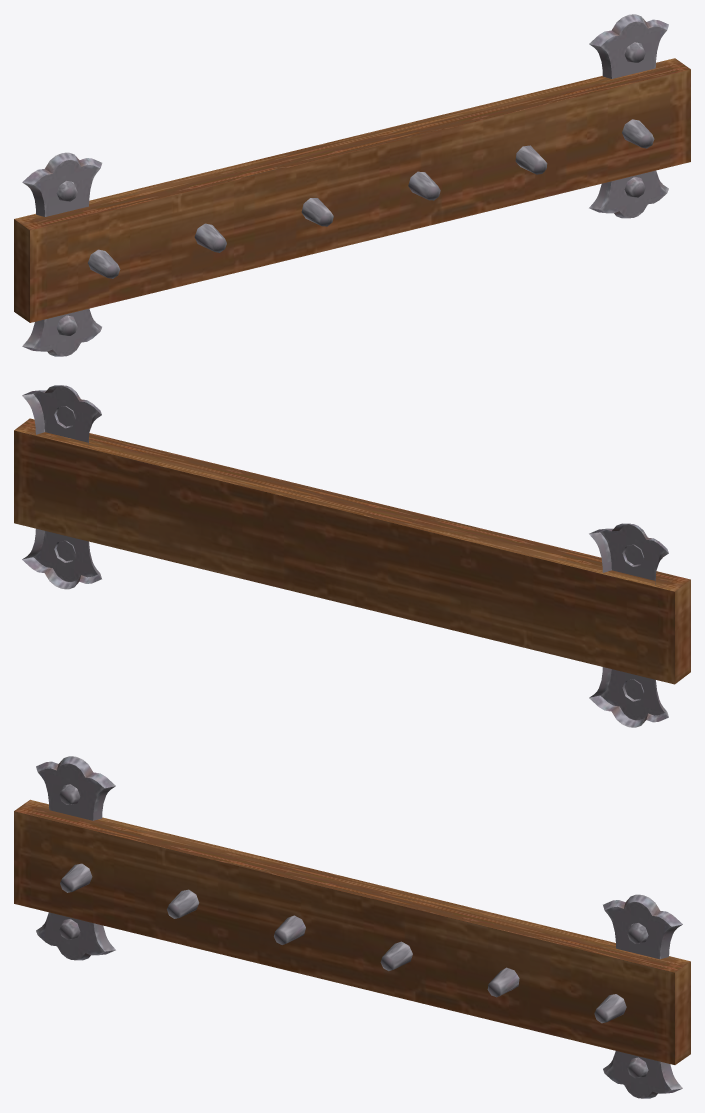
Rendered from prop-qp-pegrack.glb.
3 renders of one model, top to bottom at view 1: azimuth 30°, elevation 25°; view 2: azimuth 150°, elevation 25°; view 3: azimuth 330°, elevation 25°, orthographic.
Visible parts, largest first — view 1: Cube_201; view 2: Cube_201; view 3: Cube_201.
Boxes of the visible parts, bbox=[...] form: Cube_201: bbox=[14, 14, 690, 356]; Cube_201: bbox=[14, 385, 690, 727]; Cube_201: bbox=[14, 756, 690, 1098].
Size of the model in its own units: 1.18 by 0.3479 by 0.0957.
Materials: 2 (2 with a texture image).
